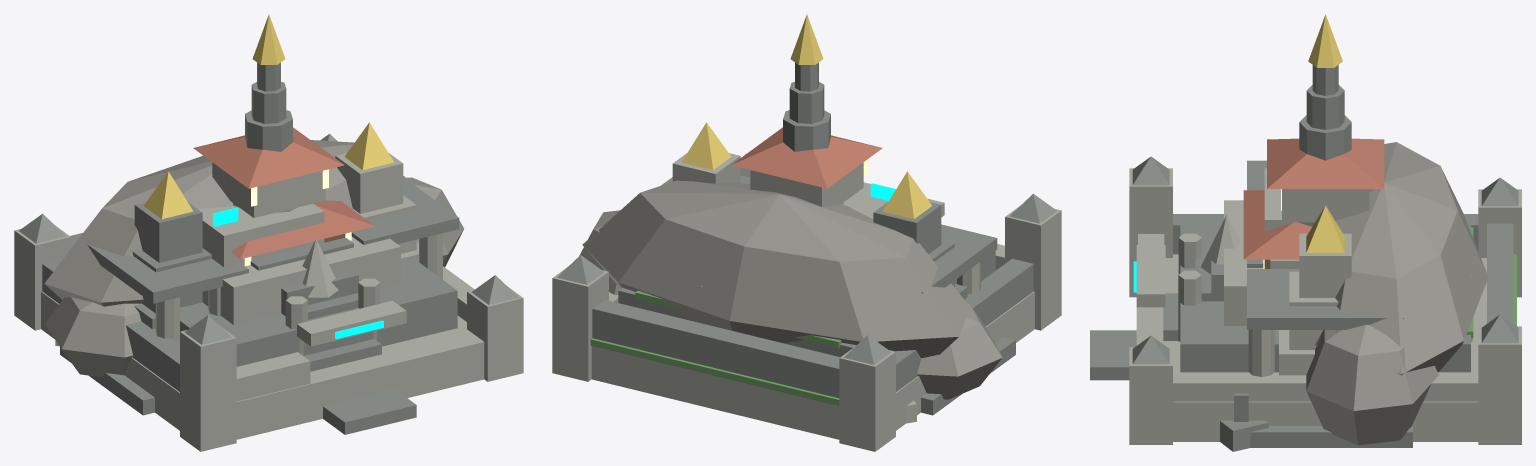
The model's file is jungle_temples_kit.glb.
3 renders of one model, left to right at view 1: azimuth 30°, elevation 25°; view 2: azimuth 150°, elevation 25°; view 3: azimuth 270°, elevation 25°, orthographic. The views are drawn at different scales.
Parts seen in each view (by area): view 1: temple_ruined_pyramid, temple_gate_compound, temple_cliff_facade, temple_pillared_hall, temple_pagoda, temple_twin_towers, temple_prang, temple_round_sun; view 2: temple_cliff_facade, temple_gate_compound, temple_ruined_pyramid, temple_pagoda, temple_twin_towers, temple_prang, temple_pillared_hall; view 3: temple_cliff_facade, temple_gate_compound, temple_ruined_pyramid, temple_pagoda, temple_pillared_hall, temple_twin_towers, temple_prang, temple_round_sun.
Part boxes in pixels (<box>): temple_ruined_pyramid: <box>41,203,484,439</box>; temple_gate_compound: <box>14,133,523,451</box>; temple_cliff_facade: <box>44,140,464,377</box>; temple_pillared_hall: <box>60,177,459,415</box>; temple_pagoda: <box>193,127,374,266</box>; temple_twin_towers: <box>132,122,418,329</box>; temple_prang: <box>233,14,338,297</box>; temple_round_sun: <box>285,278,380,355</box>; temple_cliff_facade: <box>579,180,1002,399</box>; temple_gate_compound: <box>552,153,1061,451</box>; temple_ruined_pyramid: <box>590,182,1034,439</box>; temple_pagoda: <box>731,127,882,206</box>; temple_twin_towers: <box>672,122,967,299</box>; temple_prang: <box>783,14,843,204</box>; temple_pillared_hall: <box>616,175,1015,415</box>; temple_cliff_facade: <box>1270,142,1488,445</box>; temple_gate_compound: <box>1129,156,1521,444</box>; temple_ruined_pyramid: <box>1090,168,1516,451</box>; temple_pagoda: <box>1243,138,1384,268</box>; temple_pillared_hall: <box>1234,160,1412,447</box>; temple_twin_towers: <box>1279,205,1351,375</box>; temple_prang: <box>1201,14,1351,274</box>; temple_round_sun: <box>1178,233,1472,341</box>.
Bounding box in the file's own units: 17.15 × 13.6 × 14.85.
